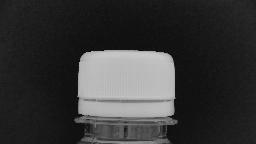Broken Ring: (75, 92, 177, 120)
